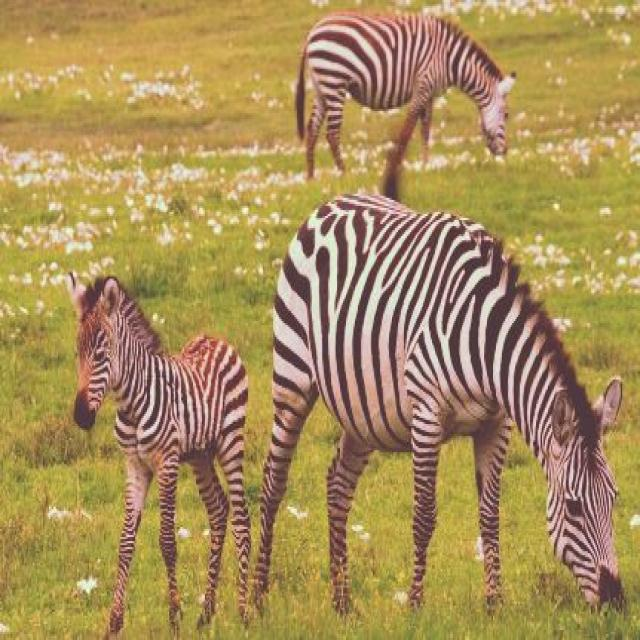Herbivorous: (252, 192, 627, 616), (254, 192, 627, 616), (71, 277, 252, 640), (294, 12, 517, 200)
